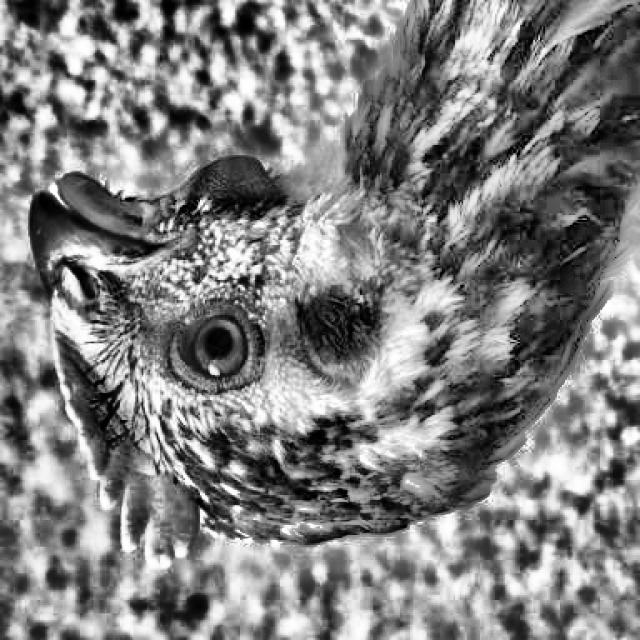Healthy: (162, 288, 273, 412)
